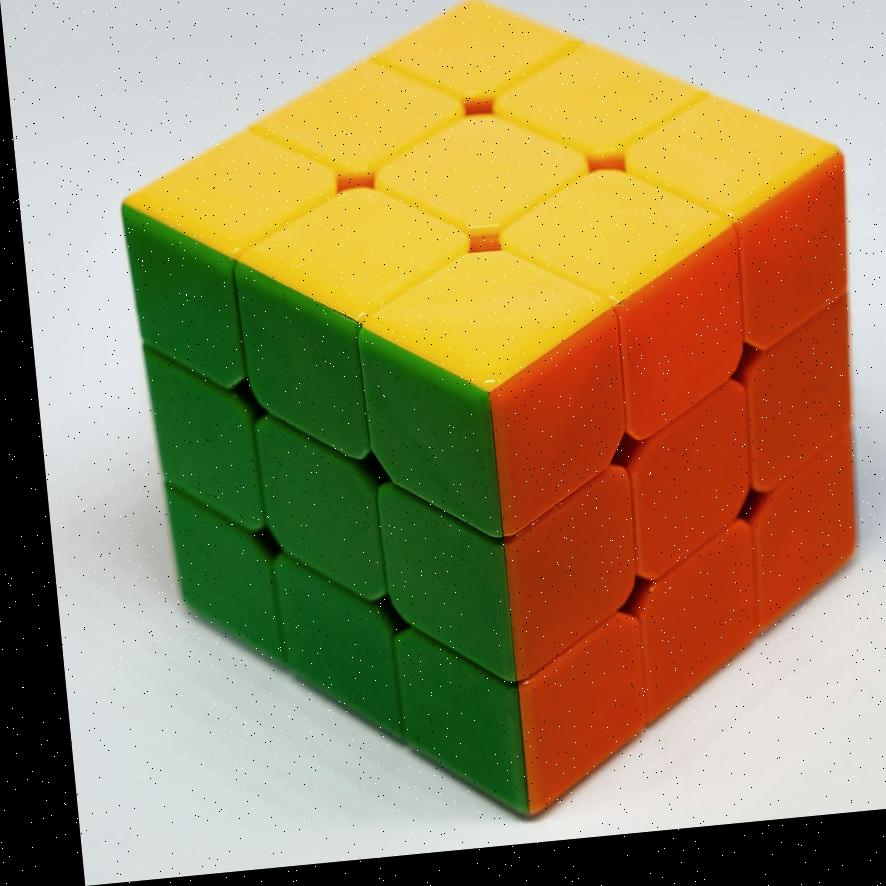cube: (104, 0, 886, 853)
